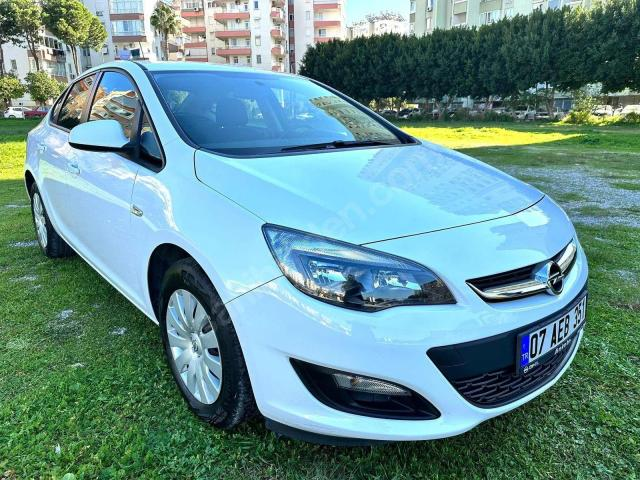plaka: (517, 297, 586, 374)
